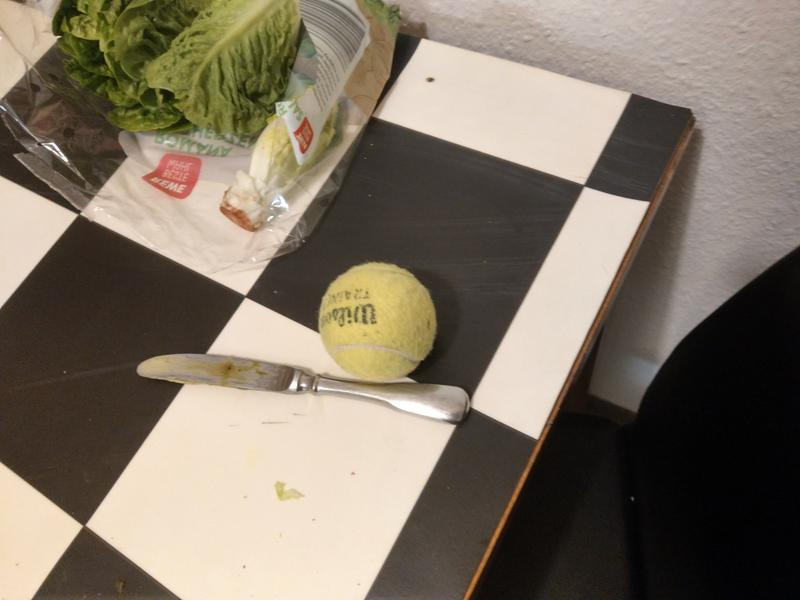Tennisball: (318, 257, 442, 386)
